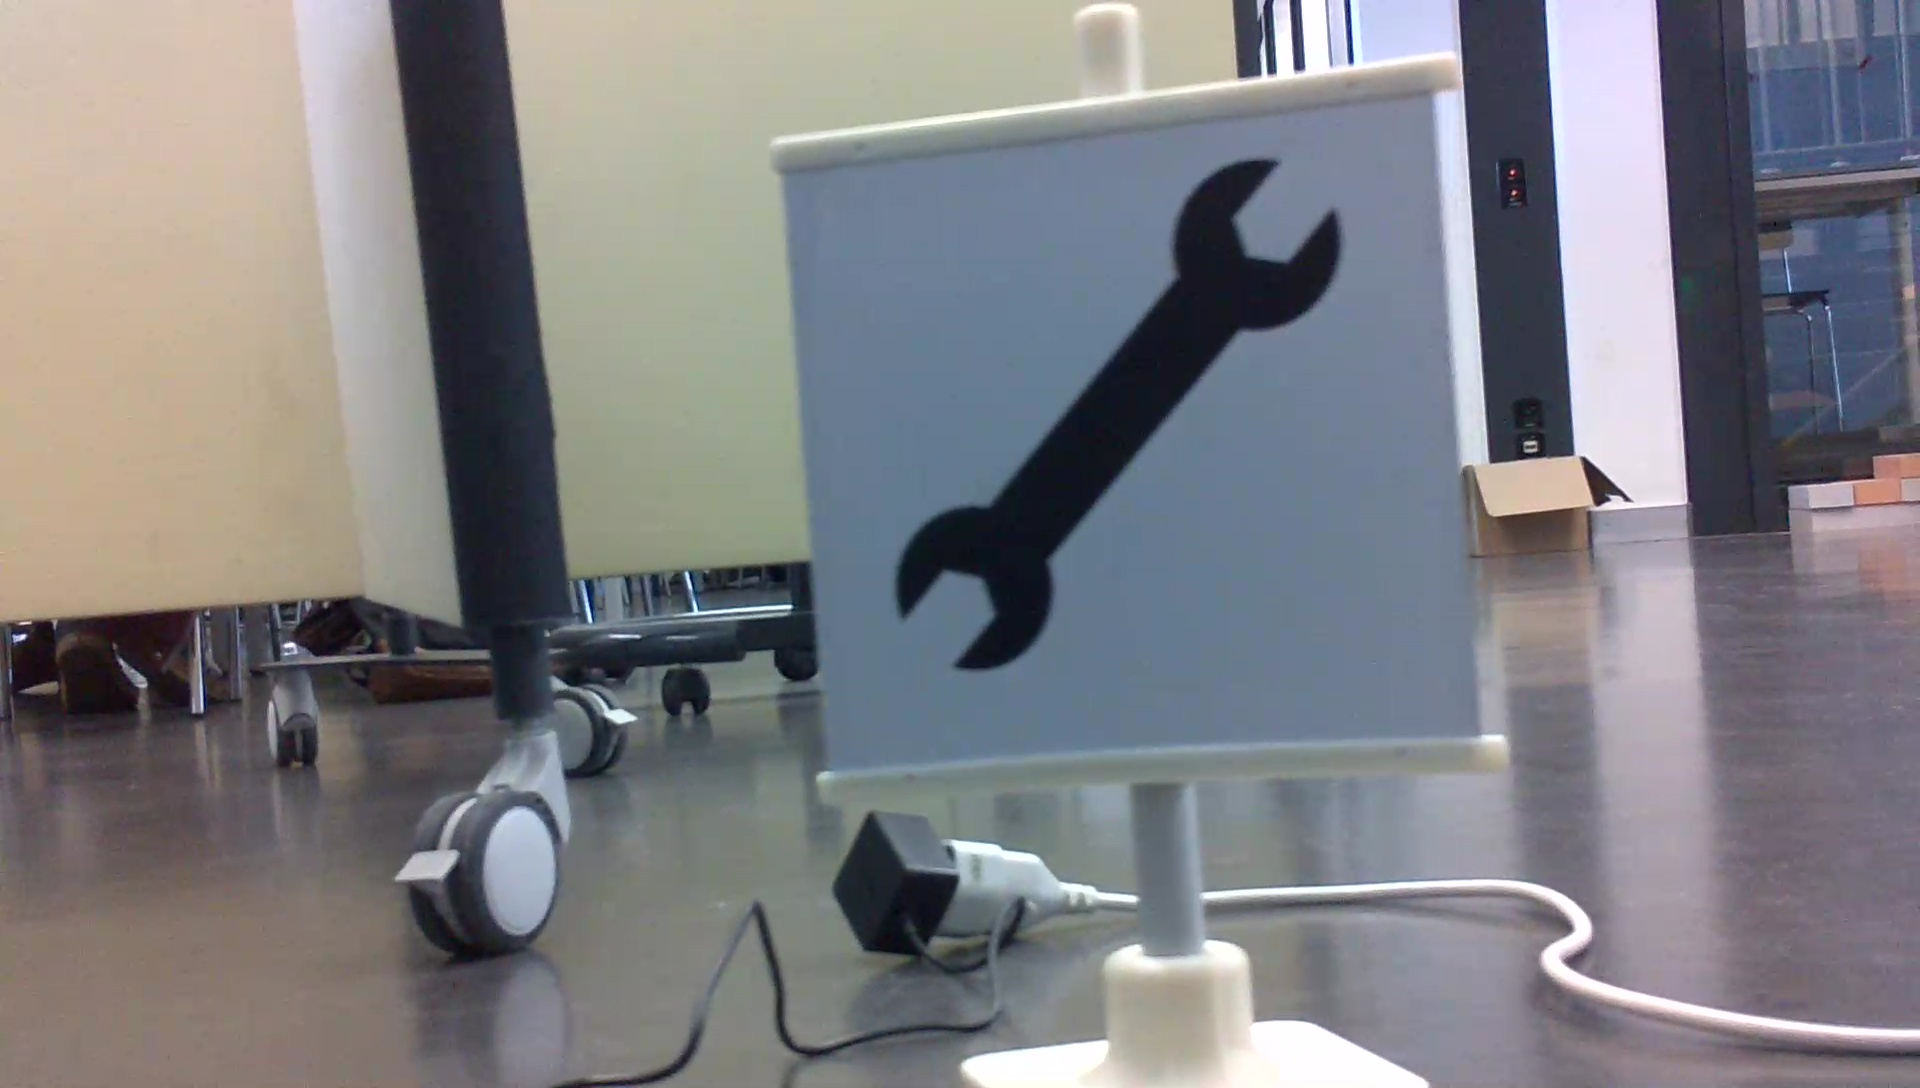wrench: (881, 140, 1356, 678)
